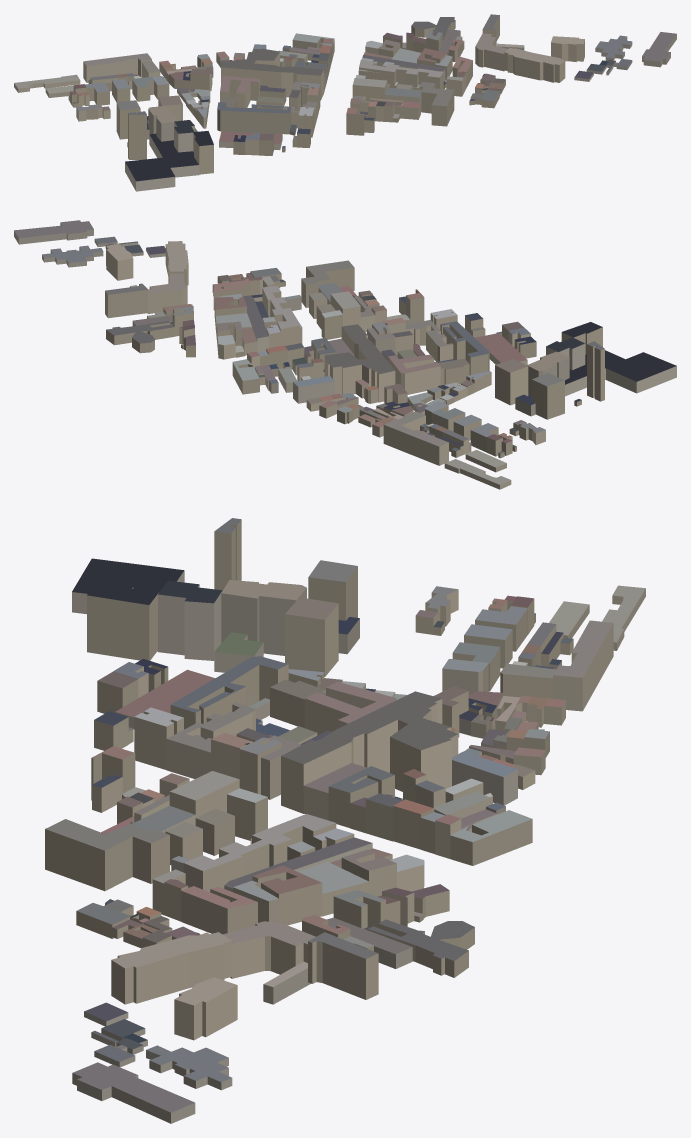
The picture shows the model from 3 angles, top to bottom: view 1: azimuth 30°, elevation 25°; view 2: azimuth 150°, elevation 25°; view 3: azimuth 270°, elevation 25°; orthographic projection. The views are drawn at different scales.
Parts seen in each view (by area): view 1: tuile; view 2: tuile; view 3: tuile.
Part boxes in pixels (x1=…): tuile: x1=14, y1=14, x2=676, y2=191; tuile: x1=14, y1=220, x2=676, y2=489; tuile: x1=45, y1=518, x2=645, y2=1123.
Size of the model in its own units: 697 by 53.98 by 324.
